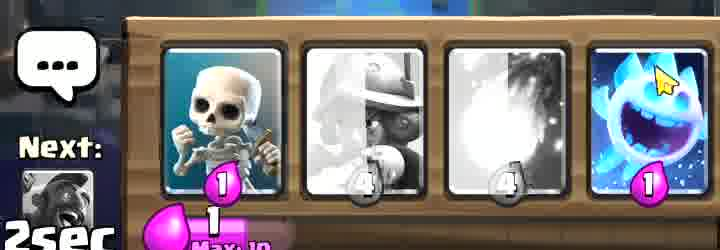ice-spirit: (587, 49, 706, 201)
